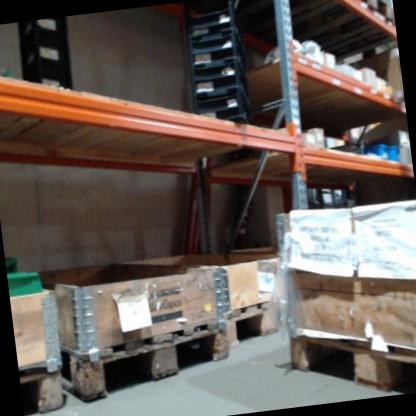pallet: (58, 310, 237, 403), (283, 313, 416, 404), (255, 0, 395, 47), (221, 291, 293, 354), (19, 354, 70, 416)
